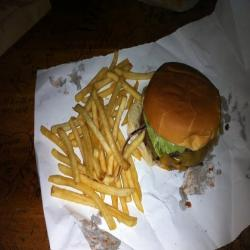burger: (137, 56, 230, 179)
fries: (59, 80, 151, 211)
